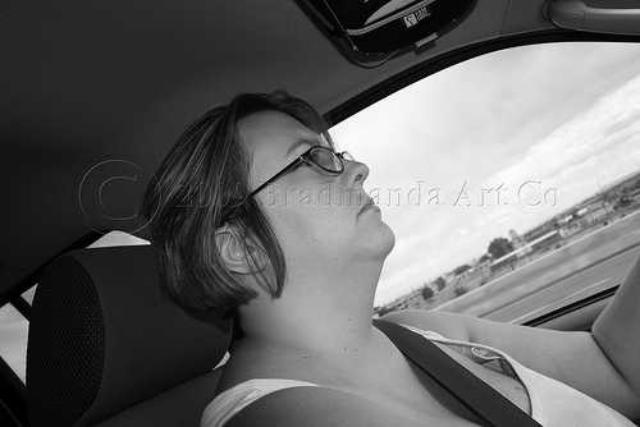Seatbelt: (371, 317, 549, 427)
